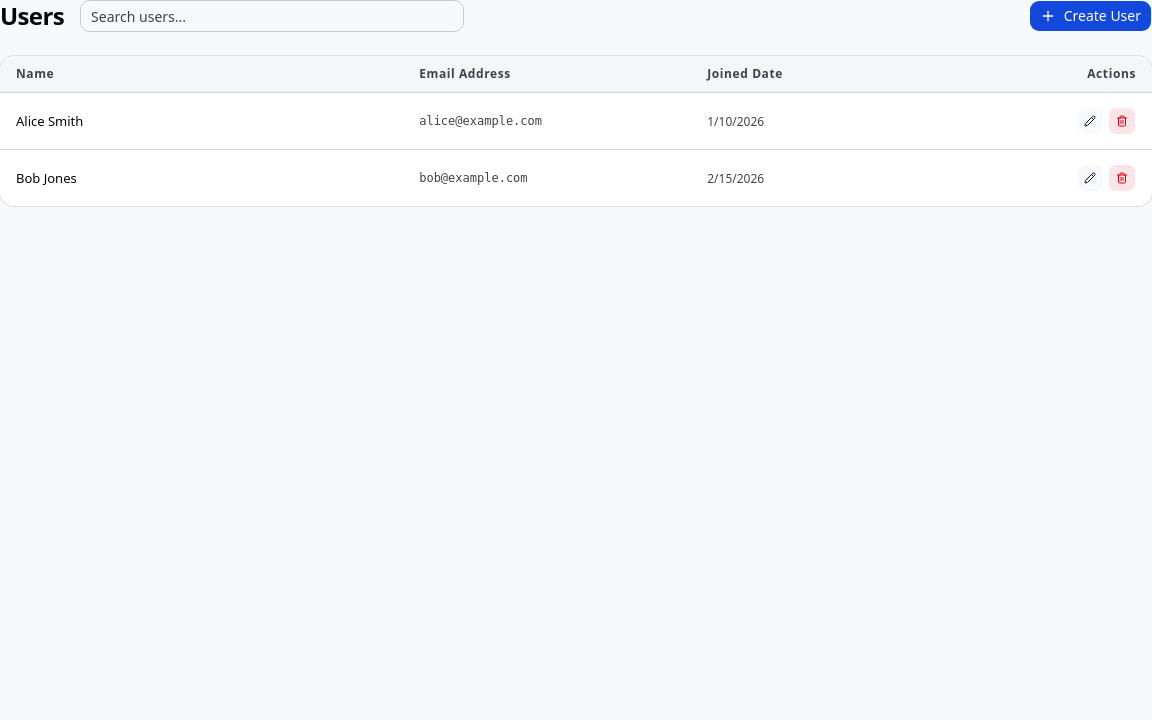
UsersTable Component › should handle create user modal inputs, eye visibility toggles, mismatch warning, and Cancel
The image size is (1152, 720).
// Open creation modal
Click the button "Create User": (1090, 16) [1029,0,1151,32]
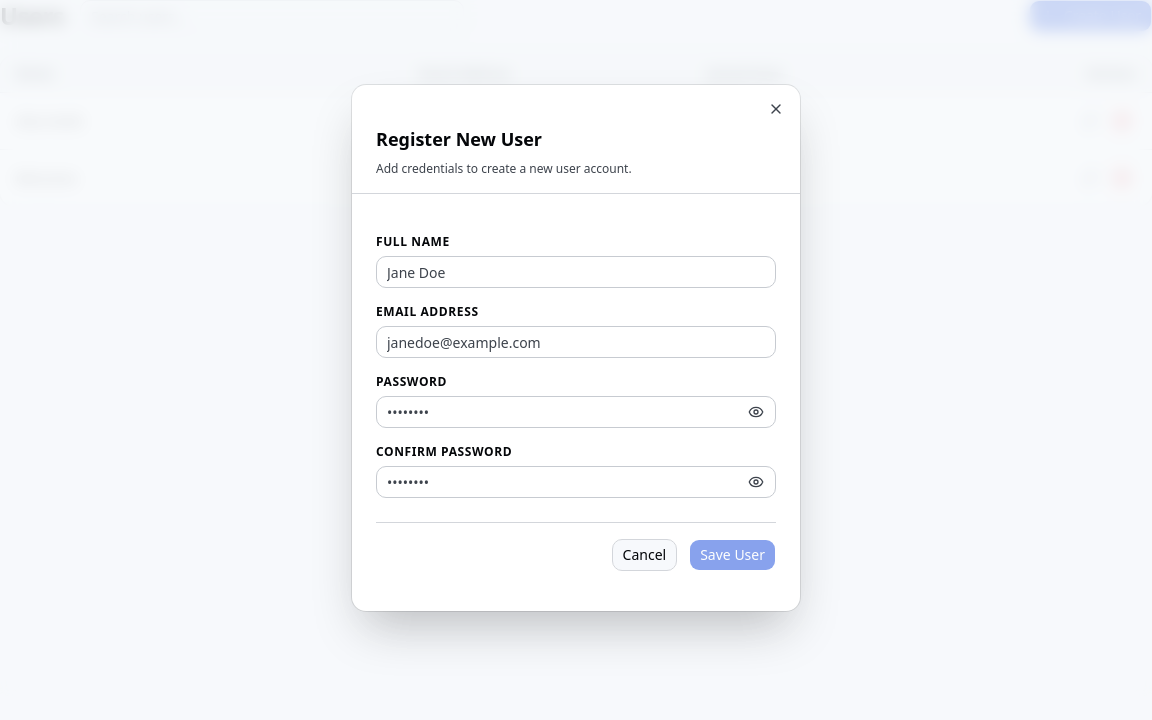
Expected: the text "Register New User" is shown, [376,127,542,151]
In the field labelled "Full Name": (576, 272) [376,256,776,288], type "David User"
In the field labelled "Email Address": (576, 342) [376,326,776,358], type "david@example.com"
In the password field labelled "Password": (576, 412) [376,396,776,428], type "secret123"
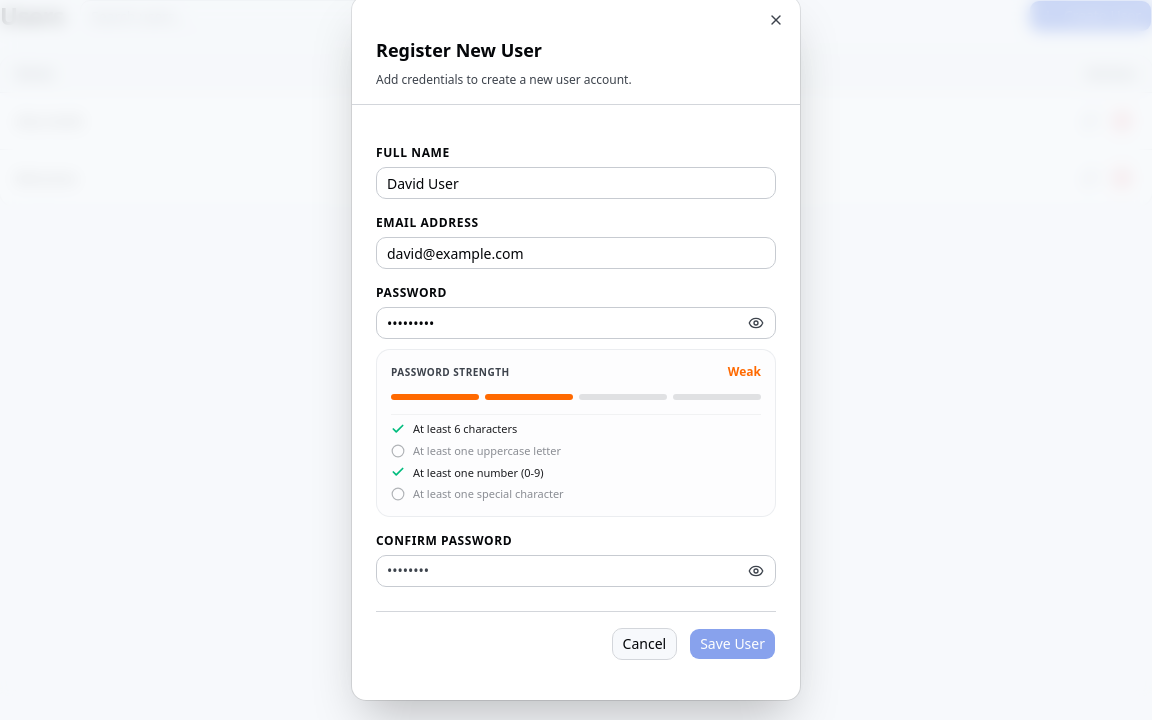
In the password field labelled "Confirm Password": (576, 571) [376,555,776,587], type "different"
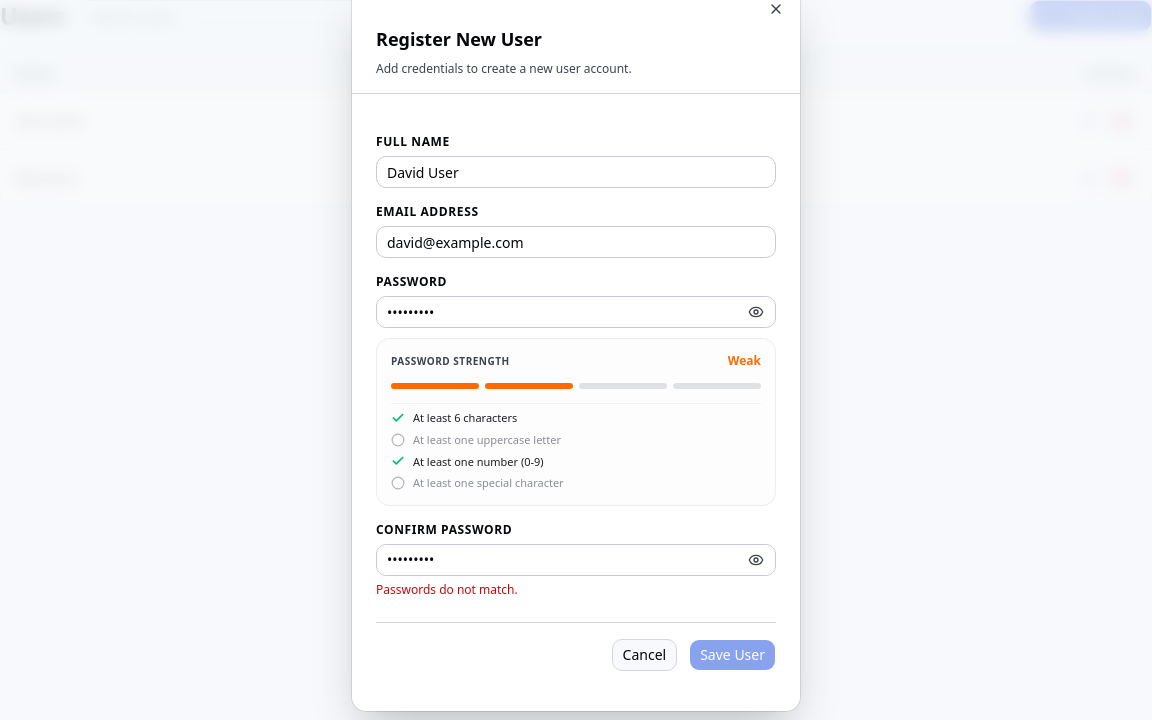
Expected: the text "Passwords do not match." is shown, [376,581,518,598]
// Toggle show password
Click the 2nd button: (756, 312) [748,304,764,320]
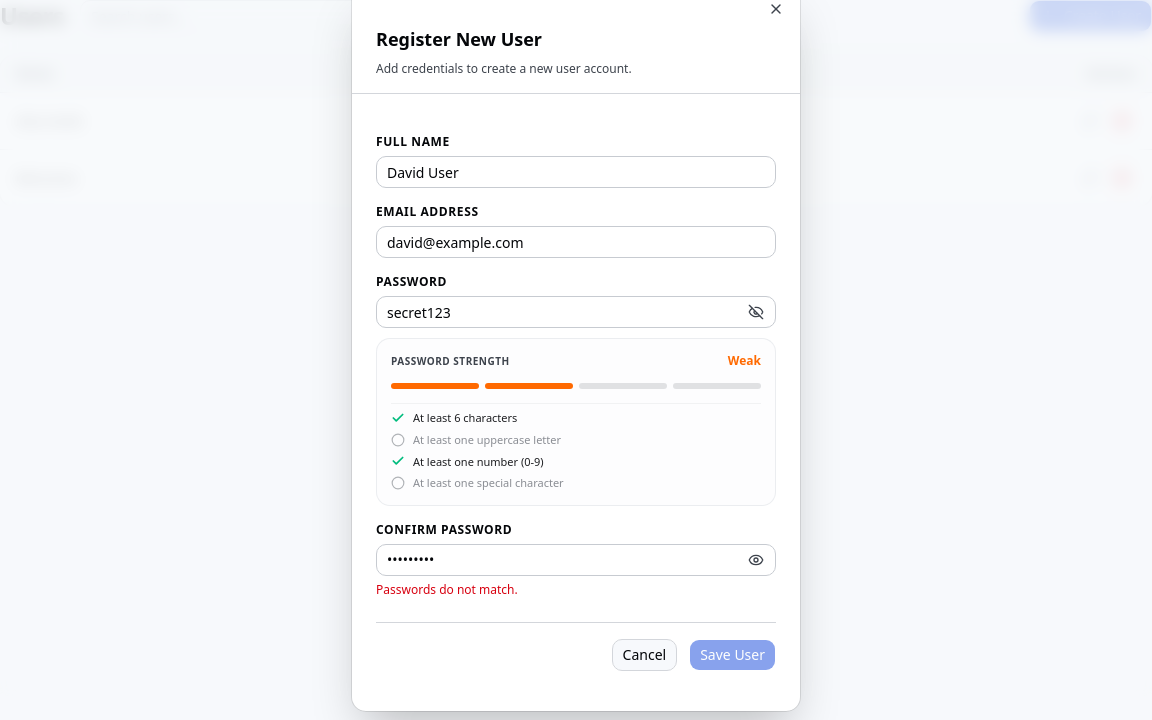
// Toggle show confirm password
Click the button without text below "Confirm Password": (756, 560) [748,552,764,568]
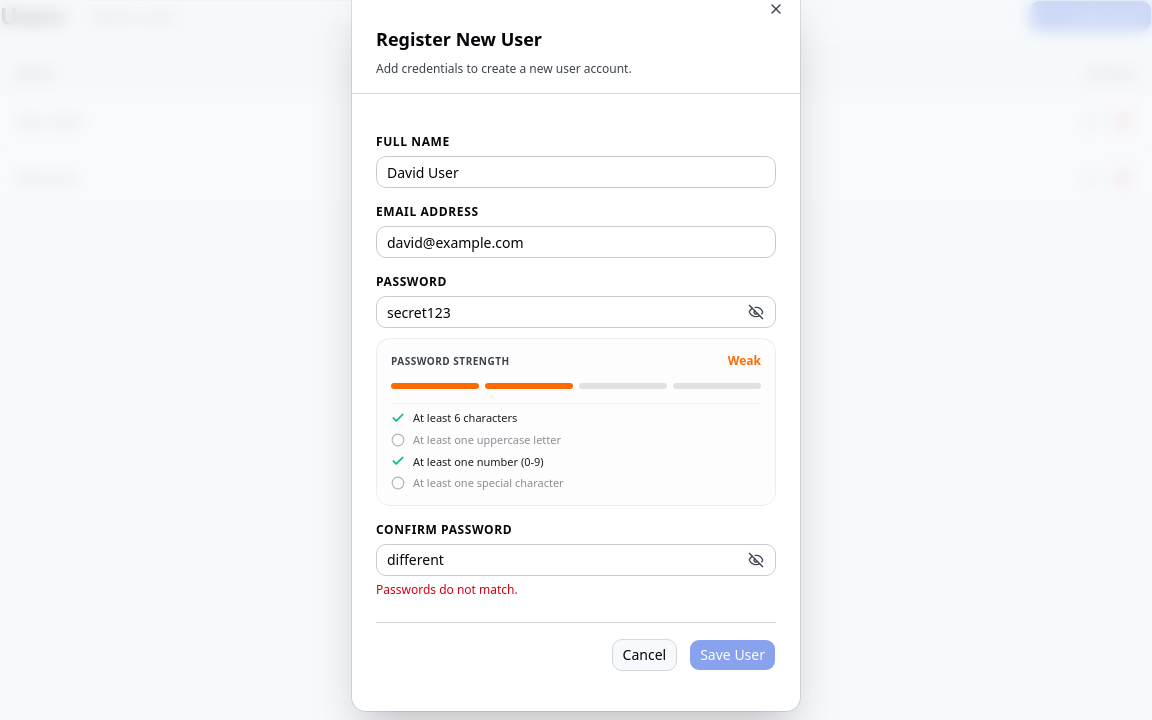
// Cancel modal
Click the button "Cancel": (644, 655) [612,639,677,671]
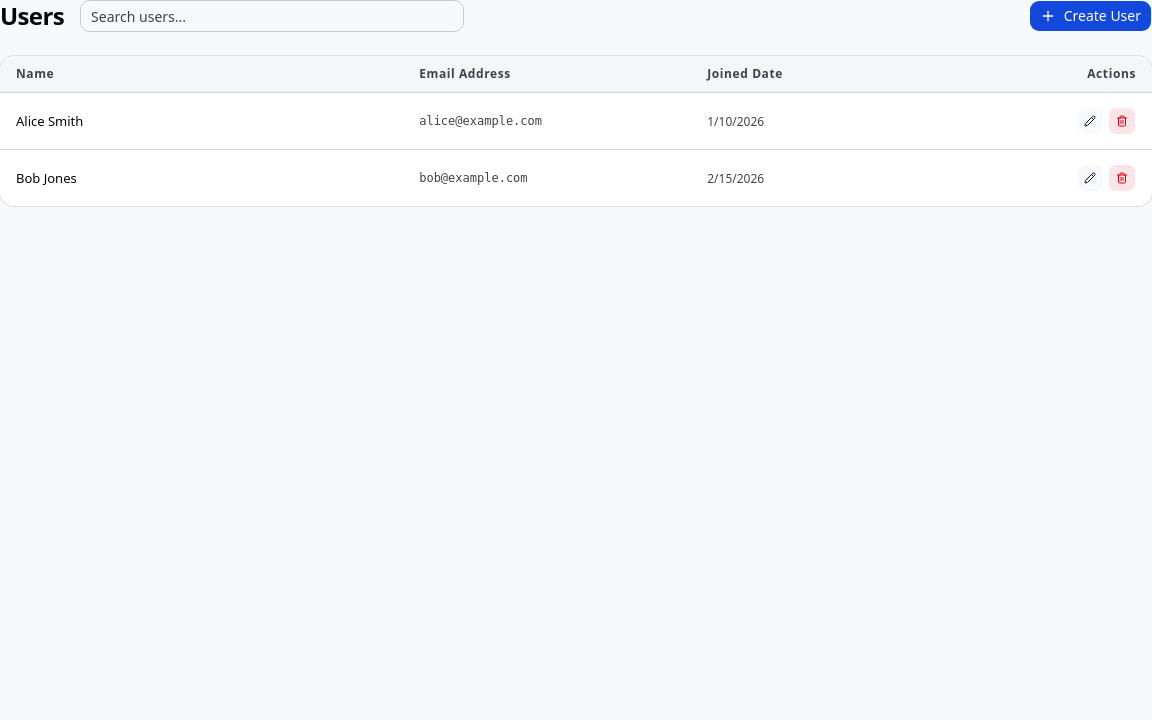
Expected: the text "Register New User" is gone
